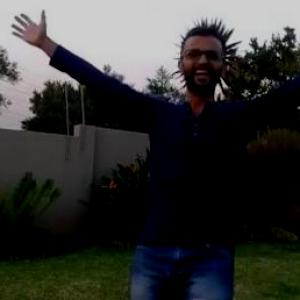takeoff: (32, 24, 299, 299)
